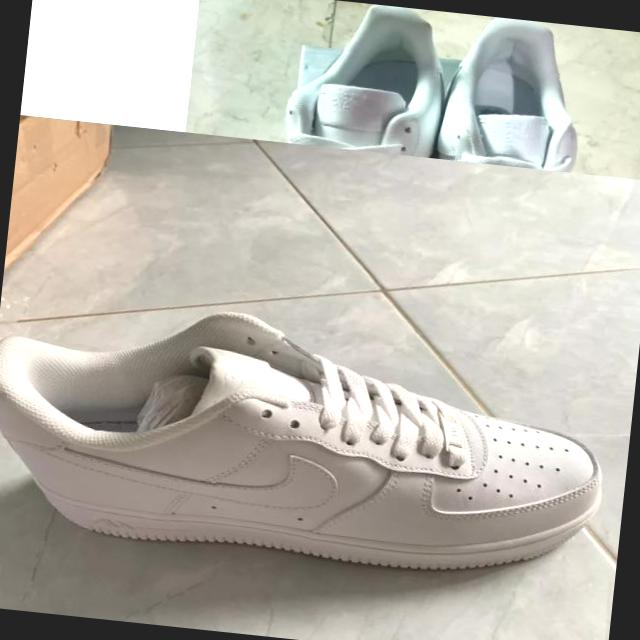nike_original_airforce: (0, 289, 617, 590)
